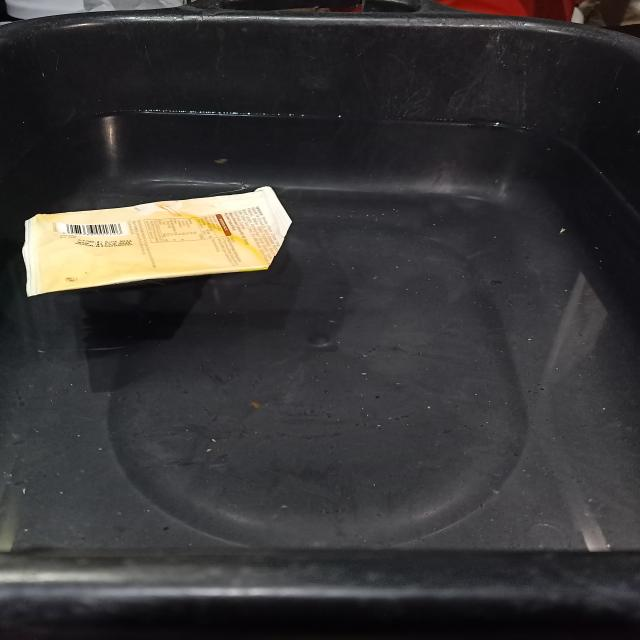Plastic Wrapper: (23, 186, 291, 296)
